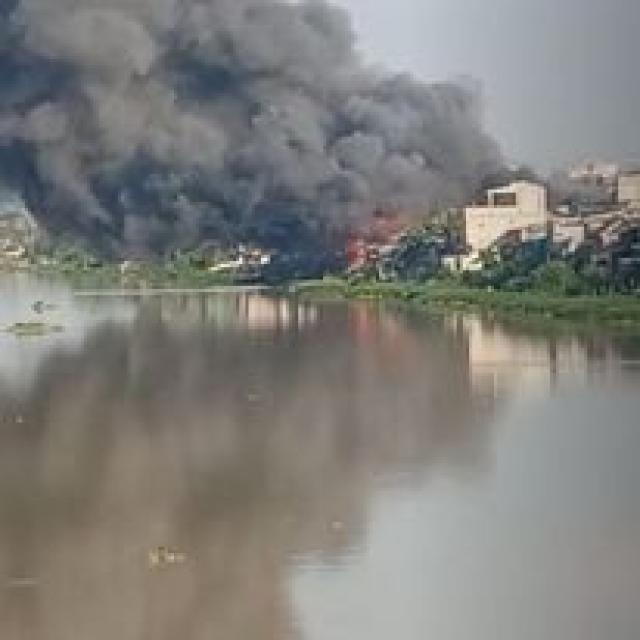Fire: (342, 208, 430, 276)
Smoke: (0, 0, 516, 281), (506, 164, 612, 212)
